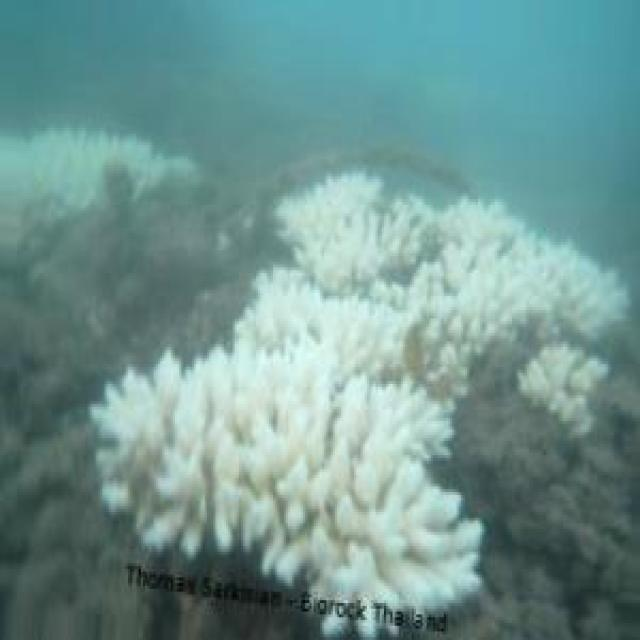bleached coral: (98, 177, 482, 606), (445, 200, 618, 364), (0, 135, 196, 248), (519, 343, 608, 434)
